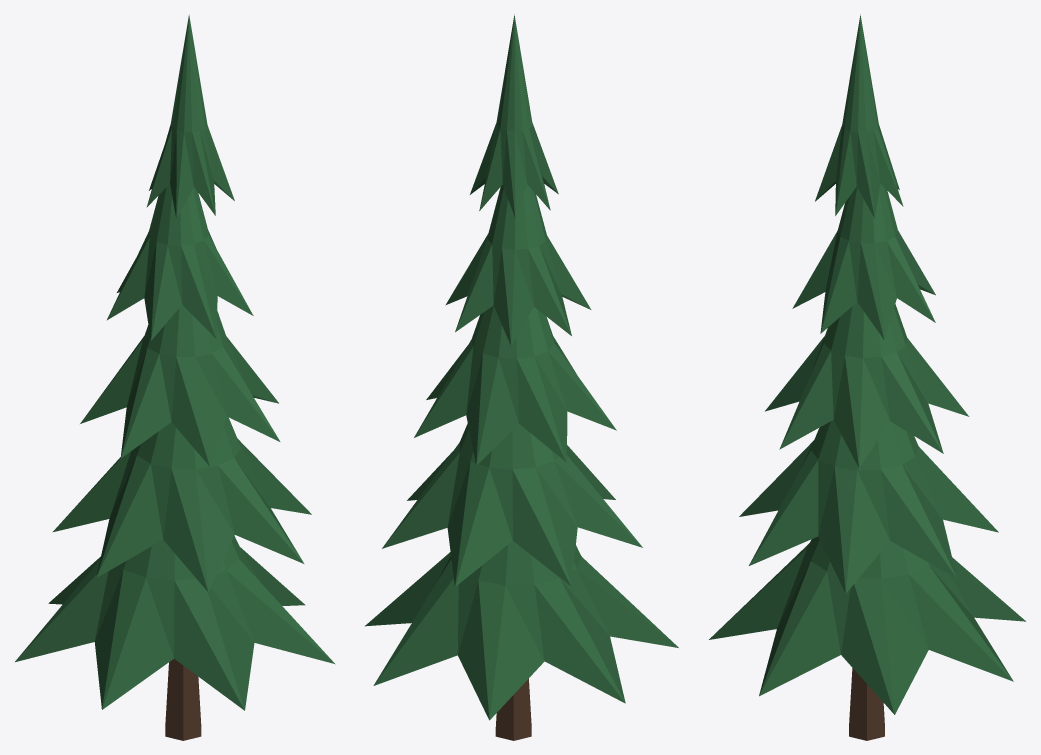
File: conifer_b.glb
3 renders of one model, left to right at view 1: azimuth 30°, elevation 25°; view 2: azimuth 150°, elevation 25°; view 3: azimuth 270°, elevation 25°, orthographic.
Parts seen in each view (by area): view 1: conifer; view 2: conifer; view 3: conifer.
Part boxes in pixels (box(x1,y1,x2,y2)): conifer: box(15, 14, 335, 740); conifer: box(365, 14, 678, 740); conifer: box(709, 14, 1025, 740).
Size of the model in its own units: 5.2 by 12.91 by 5.18.
